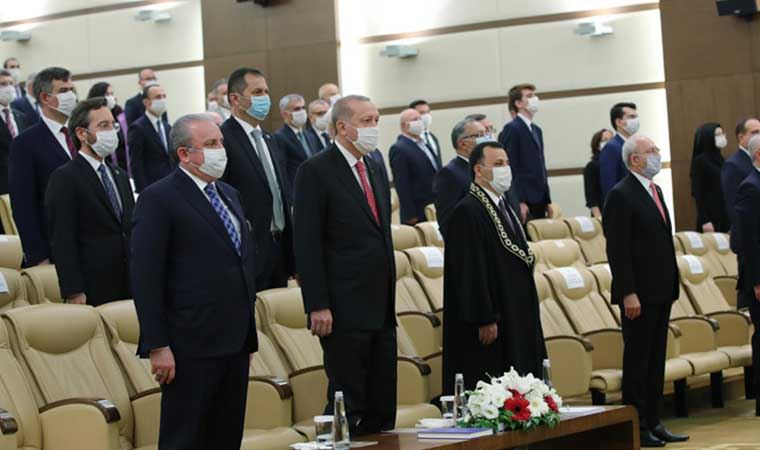with_mask: (176, 121, 226, 180), (338, 101, 379, 163), (75, 106, 120, 160), (229, 72, 269, 123), (475, 148, 513, 197), (631, 139, 659, 178), (613, 103, 640, 135), (279, 97, 307, 127), (142, 86, 166, 117), (401, 109, 424, 136), (1, 70, 16, 107), (710, 126, 728, 149)
